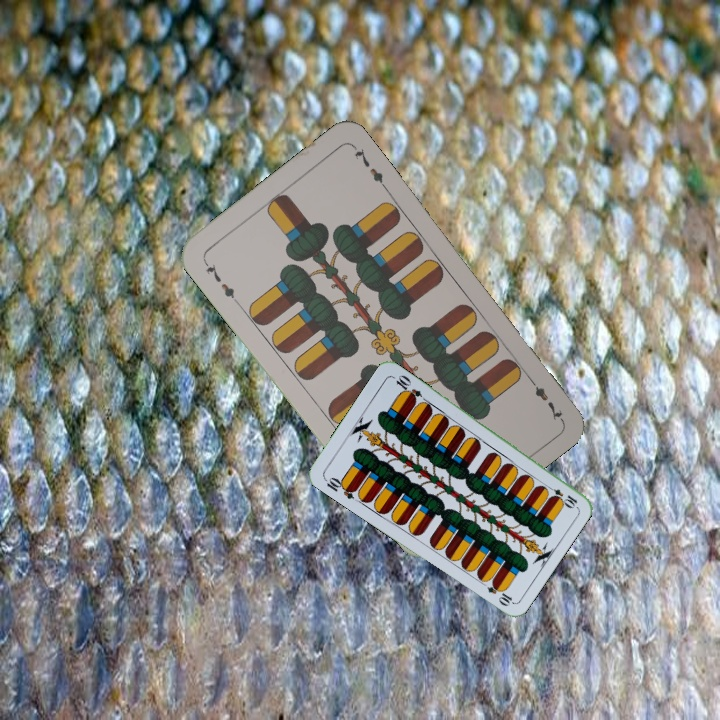E10: (320, 473, 359, 502), (542, 481, 580, 510)
E7: (523, 372, 565, 423), (199, 257, 238, 301)
